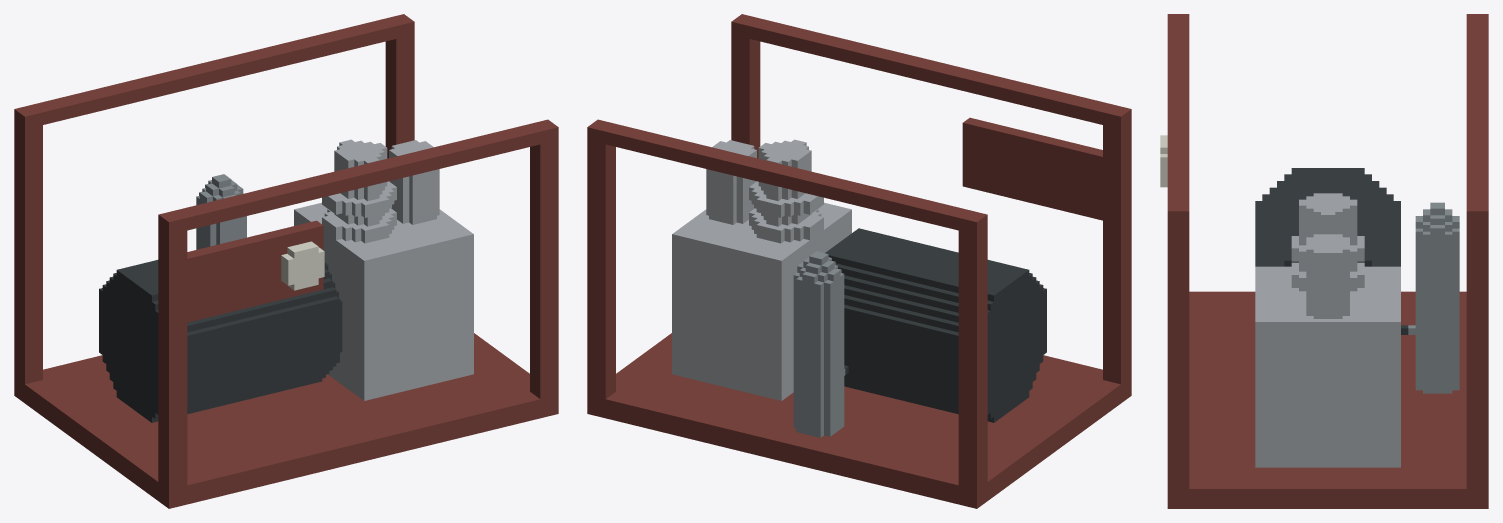
File: high_pressure_compressor.glb
3 views of the same model, side by side, from view 1: azimuth 30°, elevation 25°; view 2: azimuth 150°, elevation 25°; view 3: azimuth 270°, elevation 25° (orthographic). The views are drawn at different scales.
Visible parts, largest first — view 1: high_pressure_compressor:compound; view 2: high_pressure_compressor:compound; view 3: high_pressure_compressor:compound.
Part boxes in pixels (left/top/right/bottom): high_pressure_compressor:compound: left=14, top=14, right=558, bottom=508; high_pressure_compressor:compound: left=587, top=14, right=1131, bottom=508; high_pressure_compressor:compound: left=1160, top=14, right=1488, bottom=508.
Size of the model in its own units: 0.64 by 0.45 by 0.45.
